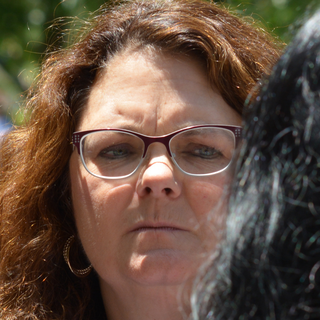eye: (180, 139, 230, 162), (96, 141, 138, 164)
